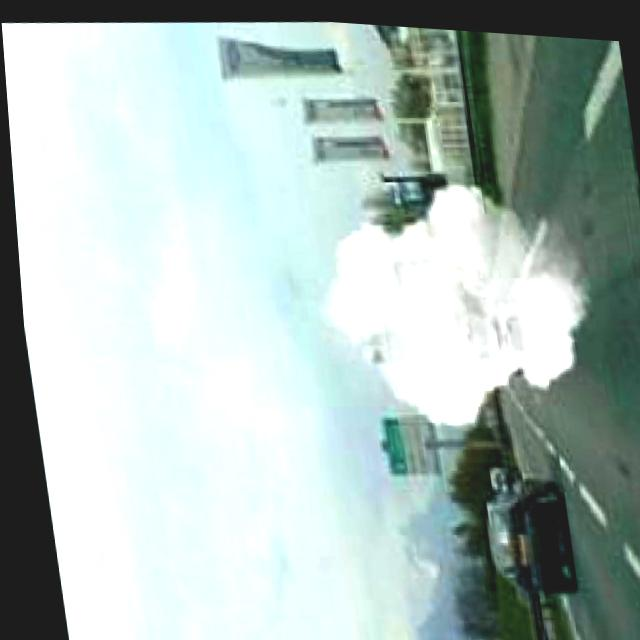Smoke: (296, 148, 605, 446)
